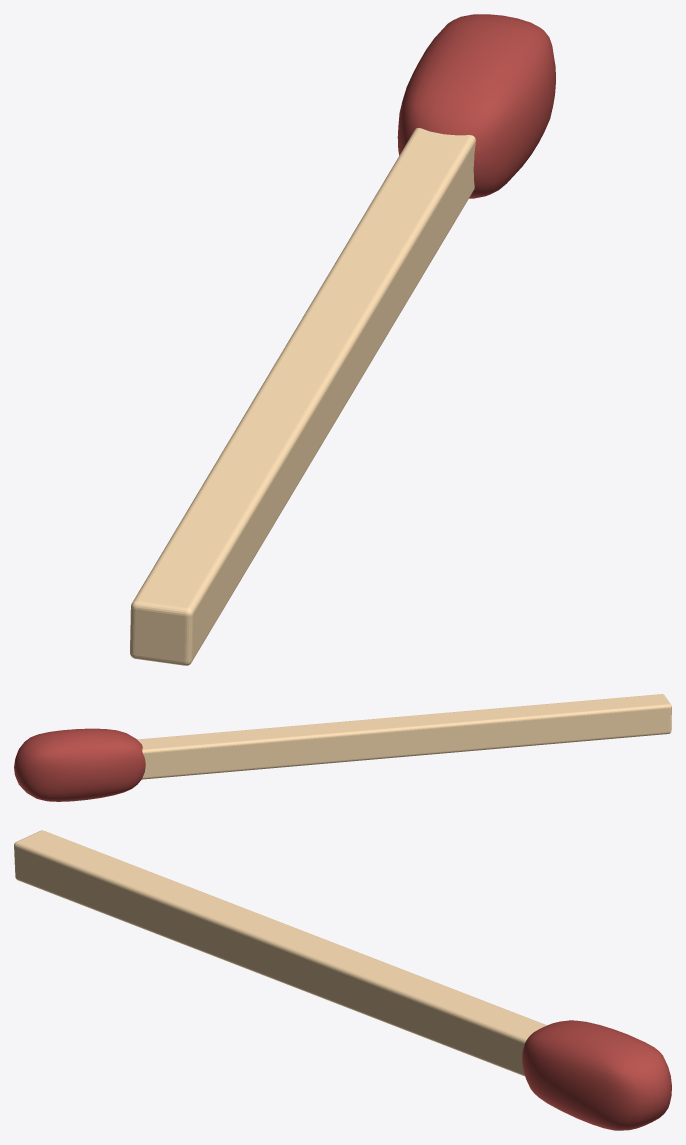
File: matchstick.glb
3 renders of one model, top to bottom at view 1: azimuth 30°, elevation 25°; view 2: azimuth 150°, elevation 25°; view 3: azimuth 270°, elevation 25°, orthographic. The views are drawn at different scales.
Parts seen in each view (by area): view 1: Cube.001; view 2: Cube.001; view 3: Cube.001.
Boxes of the visible parts, left/top/right/bottom form: Cube.001: left=130, top=14, right=555, bottom=665; Cube.001: left=14, top=694, right=671, bottom=801; Cube.001: left=14, top=830, right=671, bottom=1130.
Size of the model in its own units: 0.0309 by 0.0043 by 0.0309.
